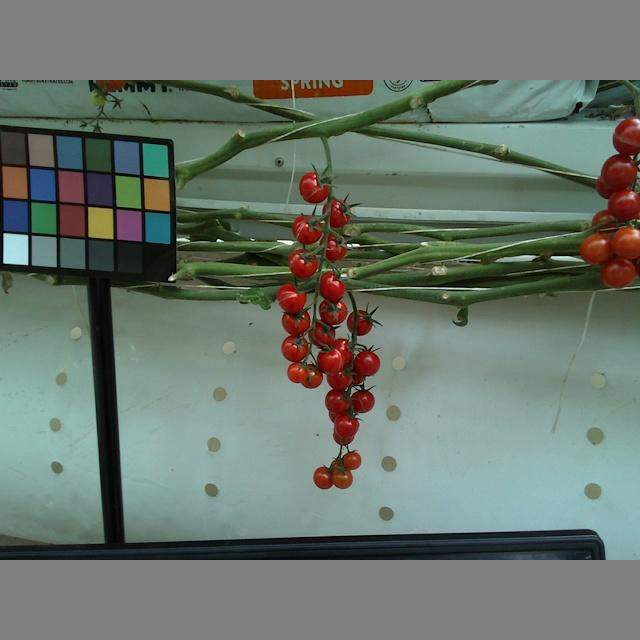red: (578, 233, 617, 270), (602, 154, 638, 192), (601, 258, 637, 290), (607, 188, 640, 222), (299, 173, 333, 205), (274, 282, 308, 313), (613, 117, 640, 156), (316, 271, 349, 301), (610, 224, 640, 257), (290, 214, 321, 245), (321, 199, 352, 229), (285, 250, 318, 278), (280, 333, 310, 363), (318, 296, 347, 326), (353, 348, 380, 378), (280, 309, 311, 335), (307, 320, 336, 347), (315, 347, 346, 372), (318, 234, 346, 261), (346, 309, 373, 336), (325, 388, 353, 414), (349, 390, 375, 413), (333, 414, 359, 437), (311, 466, 336, 489), (284, 362, 307, 385), (300, 367, 323, 390), (330, 466, 352, 489), (342, 447, 361, 468)
